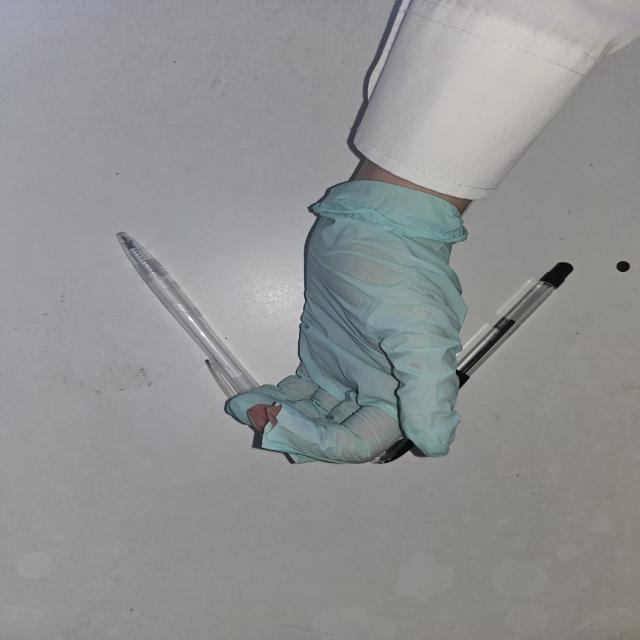gloves_damaged: (222, 173, 468, 464)
